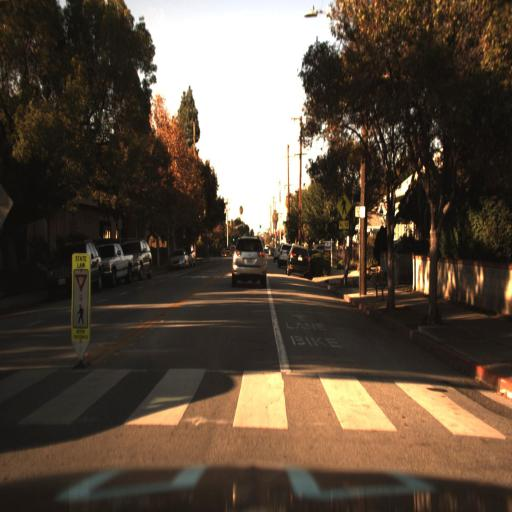car: (42, 237, 102, 300), (46, 239, 102, 297), (228, 234, 268, 288), (97, 241, 134, 293), (98, 240, 134, 282), (282, 241, 313, 281), (126, 238, 153, 281), (163, 245, 193, 275)
